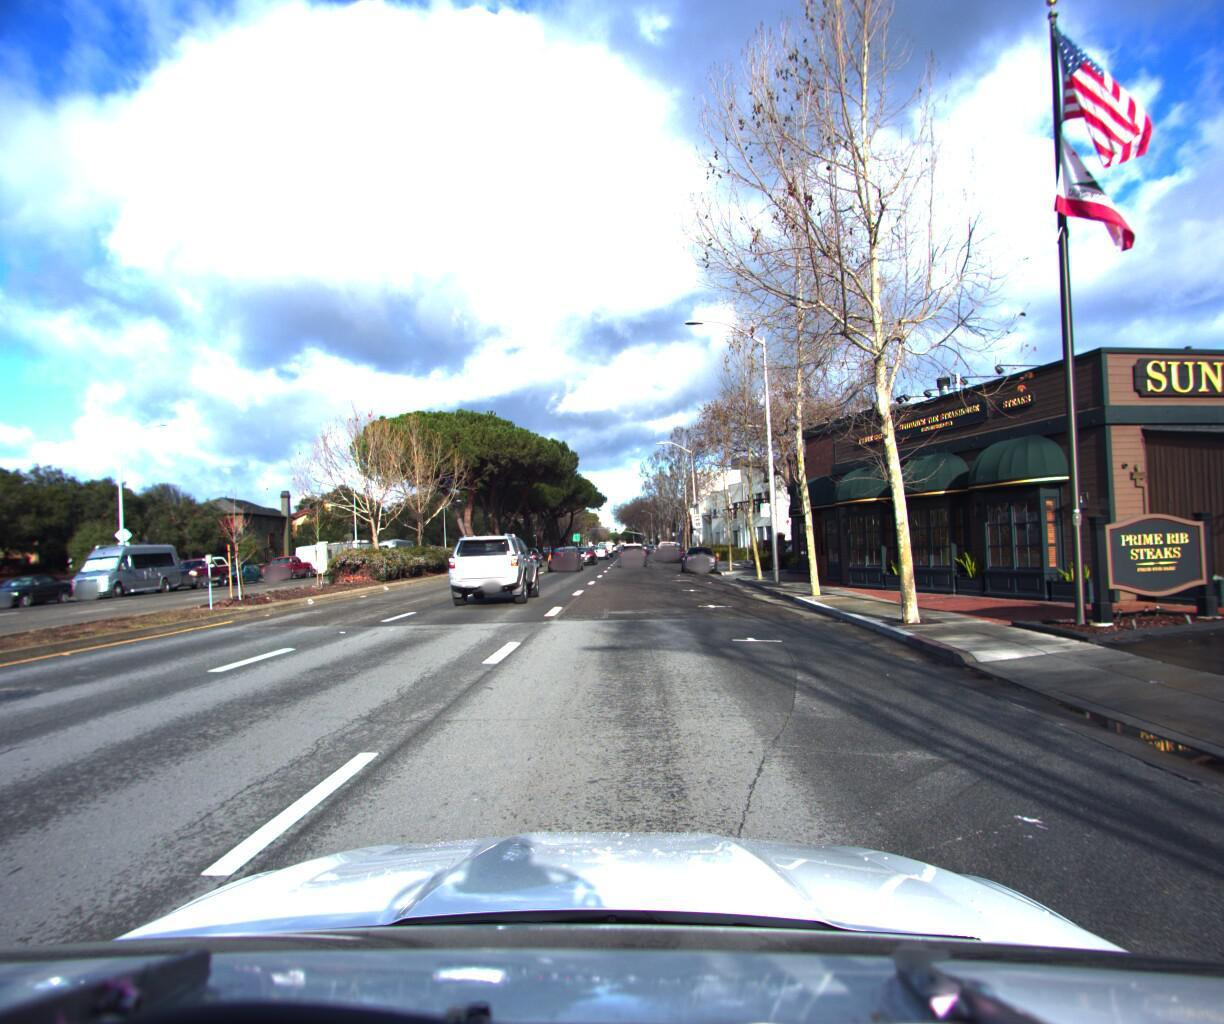car: (58, 536, 191, 600), (441, 526, 545, 605), (160, 551, 236, 588), (213, 552, 267, 584), (257, 549, 316, 577), (678, 536, 718, 569), (546, 542, 585, 569), (615, 537, 645, 562), (659, 536, 687, 556), (571, 544, 598, 564), (587, 537, 610, 553)
other_vehicle: (288, 533, 360, 573), (328, 532, 385, 568)
